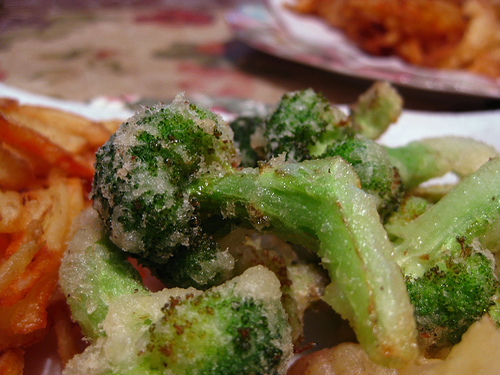broccoli: (91, 90, 420, 372), (406, 236, 499, 357)
